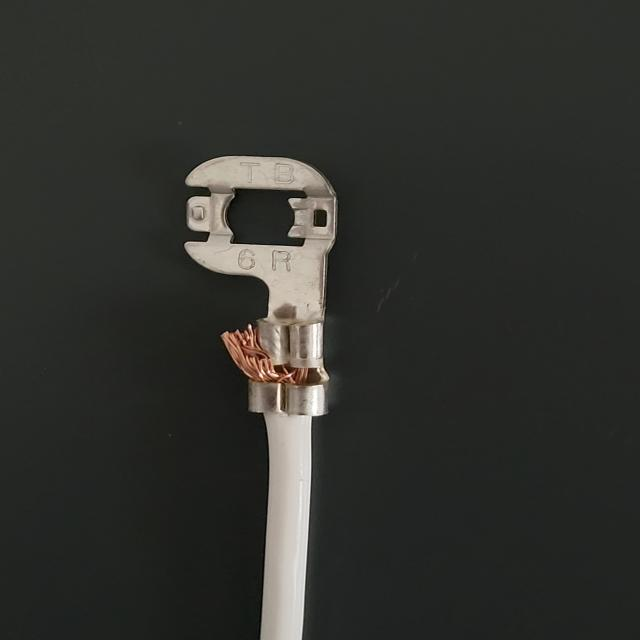defect: (195, 294, 371, 456)
